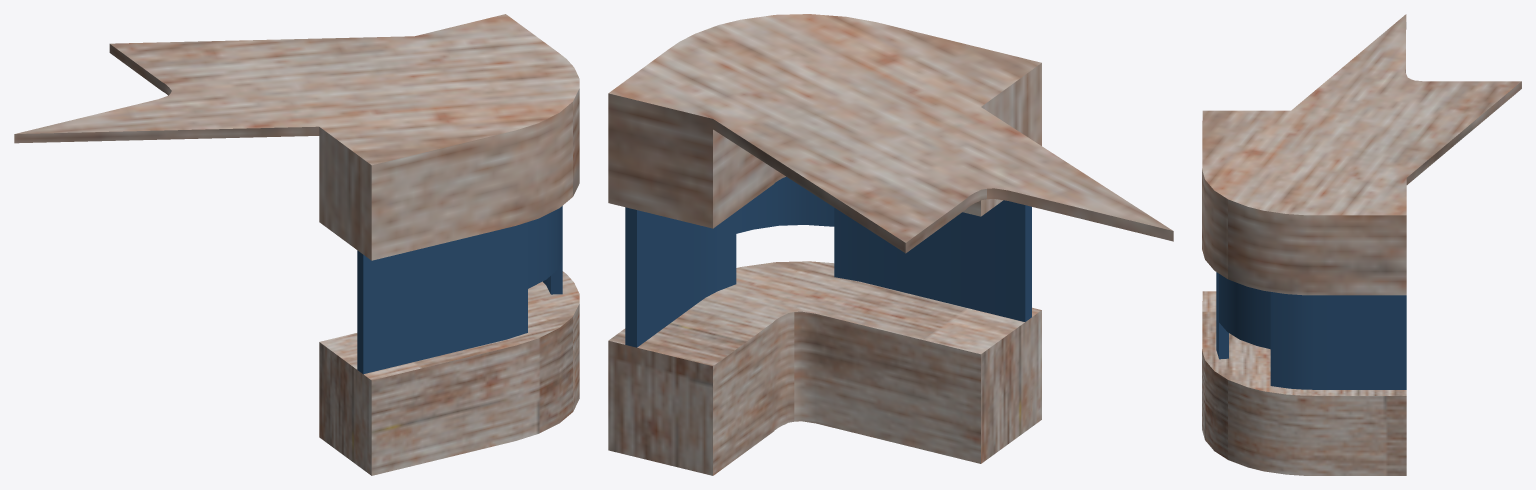
File: officeDesk.fbx
The picture shows the model from 3 angles, left to right: view 1: azimuth 30°, elevation 25°; view 2: azimuth 150°, elevation 25°; view 3: azimuth 270°, elevation 25°; orthographic projection. The views are drawn at different scales.
Parts seen in each view (by area): view 1: Cube.003, Cube.001, Cube.004; view 2: Cube.003, Cube.001, Cube.004; view 3: Cube.003, Cube.001, Cube.004.
Part boxes in pixels (x1,y1,x2,y2): Cube.003: (14,14,579,260); Cube.001: (319,271,579,475); Cube.004: (357,206,562,374); Cube.003: (608,14,1173,413); Cube.001: (608,261,1041,475); Cube.004: (625,176,1031,347); Cube.003: (1202,14,1521,295); Cube.001: (1202,291,1406,475); Cube.004: (1216,272,1406,389).
Size of the model in its own units: 10.78 by 6.51 by 7.23.
